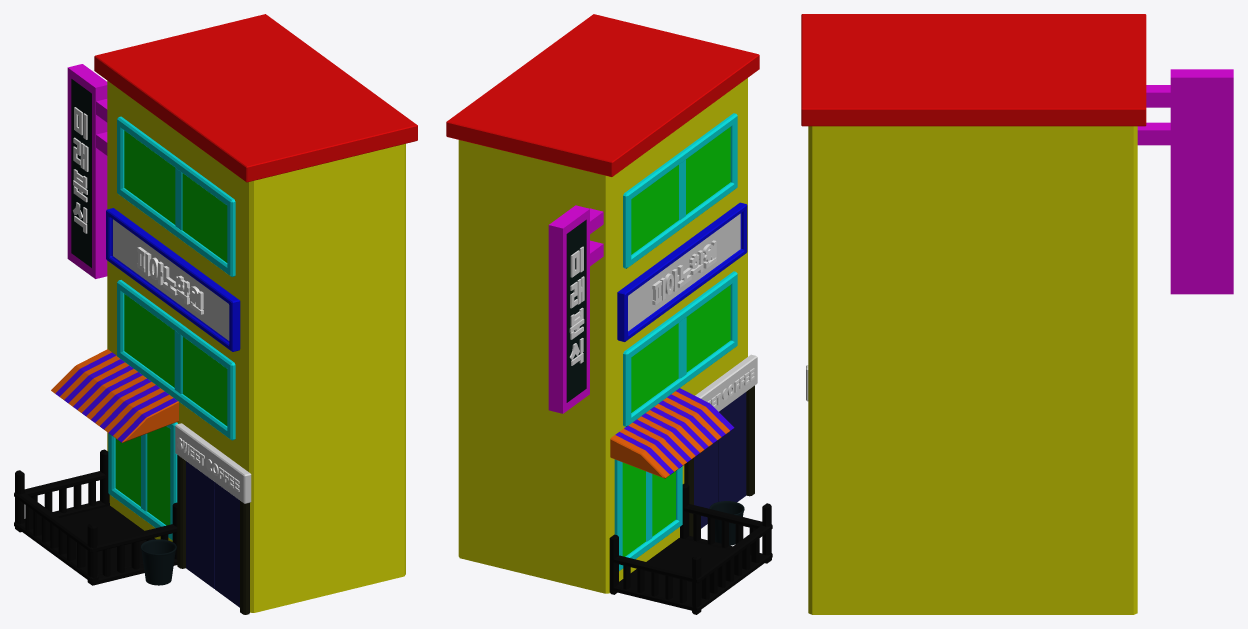
File: Building_3_2.fbx
The picture shows the model from 3 angles, left to right: view 1: azimuth 30°, elevation 25°; view 2: azimuth 150°, elevation 25°; view 3: azimuth 270°, elevation 25°; orthographic projection. The views are drawn at different scales.
Parts seen in each view (by area): view 1: polySurface1485, polySurface1472, polySurface1454, polySurface1460, typeMesh25, typeMesh27, typeMesh26; view 2: polySurface1485, polySurface1472, polySurface1454, typeMesh25, polySurface1460, typeMesh27, typeMesh26; view 3: polySurface1485, polySurface1472.
Boxes of the visible parts, x1,y1,x2,y2 form: polySurface1485: (14, 14, 417, 614); polySurface1472: (67, 64, 107, 278); polySurface1454: (106, 208, 240, 351); polySurface1460: (175, 423, 251, 503); typeMesh25: (137, 247, 203, 314); typeMesh27: (73, 107, 88, 233); typeMesh26: (177, 437, 239, 491); polySurface1485: (446, 14, 772, 614); polySurface1472: (548, 205, 589, 413); polySurface1454: (617, 202, 747, 341); typeMesh25: (652, 240, 716, 304); polySurface1460: (695, 354, 757, 411); typeMesh27: (569, 246, 584, 365); typeMesh26: (707, 368, 754, 407); polySurface1485: (801, 14, 1170, 614); polySurface1472: (1170, 69, 1233, 294).
Bounding box in the file's own units: 147 × 247 × 190.
